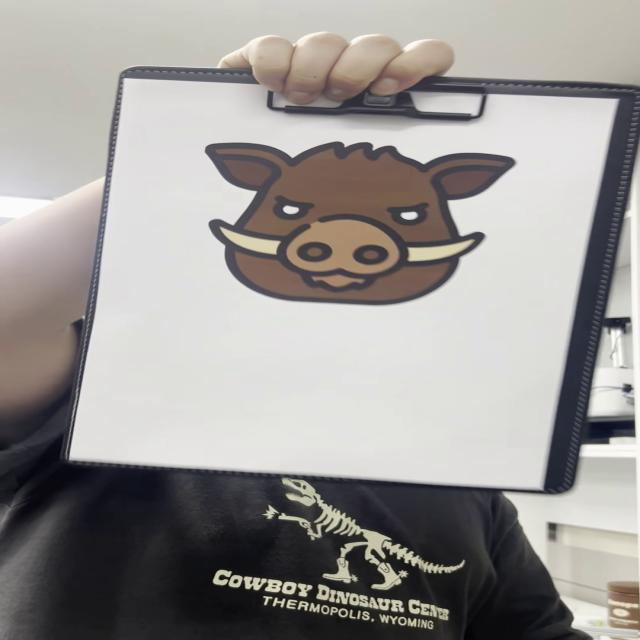animal: (205, 137, 522, 309)
